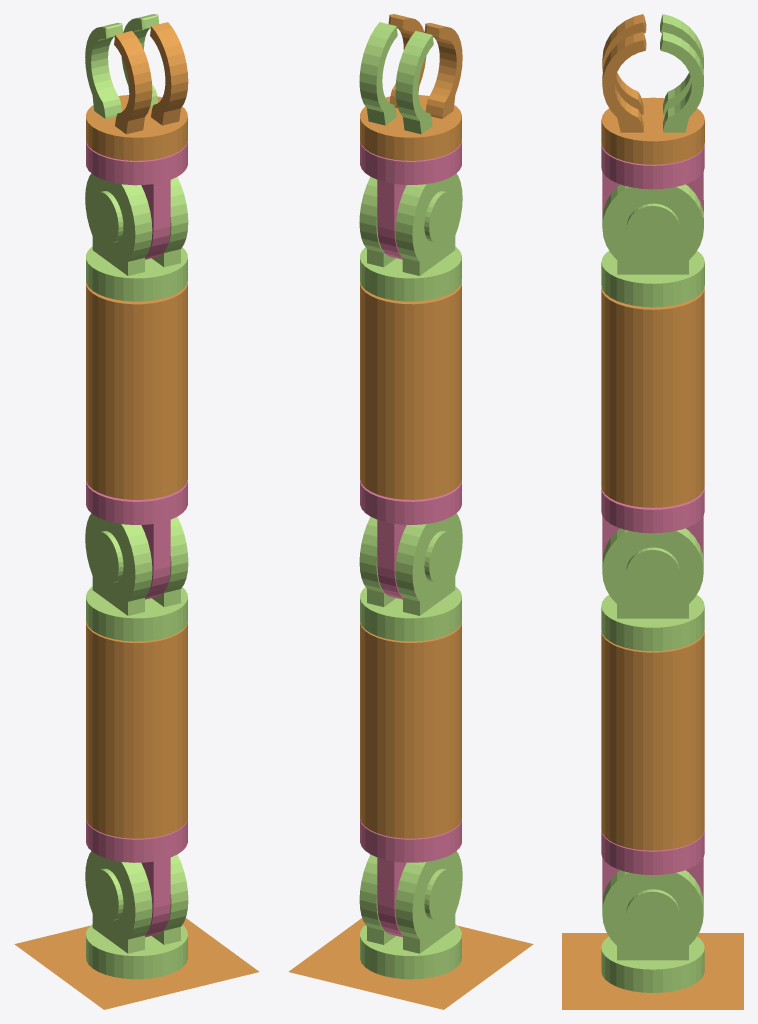
The model's file is MultiArm_06.fbx.
3 renders of one model, left to right at view 1: azimuth 30°, elevation 25°; view 2: azimuth 150°, elevation 25°; view 3: azimuth 270°, elevation 25°, orthographic.
Parts seen in each view (by area): view 1: Wrist, UpperArm, Shoulder Joint, Plane, RightPincher, Elbow, Hand, BaseShoulder, PincherBase, LeftPincher; view 2: Wrist, UpperArm, Shoulder Joint, Plane, LeftPincher, Elbow, Hand, BaseShoulder, PincherBase, RightPincher; view 3: Wrist, UpperArm, Shoulder Joint, Plane, PincherBase, RightPincher, LeftPincher, Elbow, Hand, BaseShoulder.
Boxes of the visible parts, x1,y1,x2,y2 form: Wrist: (85, 173, 188, 499); UpperArm: (85, 513, 188, 838); Shoulder Joint: (85, 851, 188, 979); Plane: (14, 918, 259, 1009); RightPincher: (114, 22, 188, 134); Elbow: (86, 480, 187, 599); Hand: (86, 141, 187, 259); BaseShoulder: (86, 819, 187, 937); PincherBase: (86, 95, 187, 160); LeftPincher: (85, 14, 159, 118); Wrist: (359, 173, 462, 499); UpperArm: (359, 513, 462, 838); Shoulder Joint: (359, 851, 462, 979); Plane: (288, 918, 533, 1009); LeftPincher: (359, 22, 433, 134); Elbow: (360, 480, 461, 599); Hand: (360, 139, 461, 259); BaseShoulder: (360, 819, 461, 937); PincherBase: (360, 95, 461, 160); RightPincher: (388, 14, 462, 118); Wrist: (601, 184, 704, 507); UpperArm: (601, 528, 704, 850); Shoulder Joint: (601, 870, 704, 992); Plane: (562, 933, 743, 1009); PincherBase: (601, 97, 704, 164); RightPincher: (602, 14, 646, 132); LeftPincher: (660, 14, 703, 132); Elbow: (601, 487, 704, 559); Hand: (601, 143, 704, 217); BaseShoulder: (601, 830, 704, 901).
Bounding box in the file's own units: 352 × 2014 × 352.
